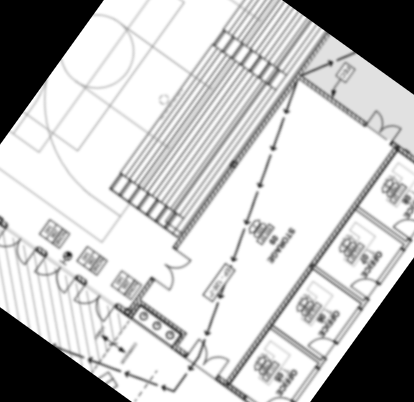door: (305, 328, 338, 360), (350, 270, 380, 301), (391, 210, 414, 242), (263, 387, 294, 402)
double door: (150, 244, 195, 294), (183, 338, 231, 383), (32, 255, 78, 297), (72, 283, 117, 325), (0, 225, 39, 267), (363, 109, 403, 146)
wall: (223, 143, 403, 386), (169, 32, 332, 254), (295, 73, 369, 131), (115, 273, 159, 326), (137, 298, 191, 340), (164, 322, 194, 359), (214, 373, 248, 402), (167, 340, 192, 361)
window: (241, 394, 267, 402), (411, 156, 414, 181)
